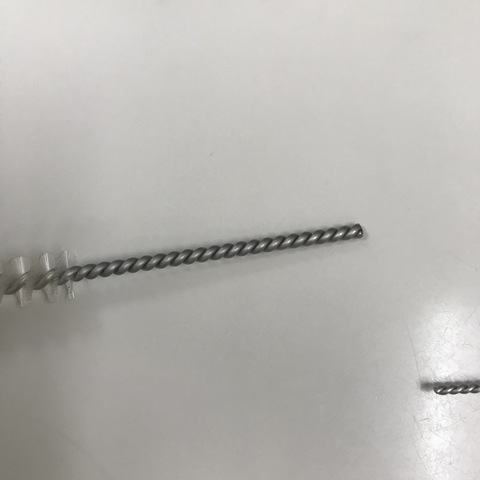Twist Brush-A: (424, 376, 480, 396)
Twist Brush-B: (1, 224, 368, 305)
